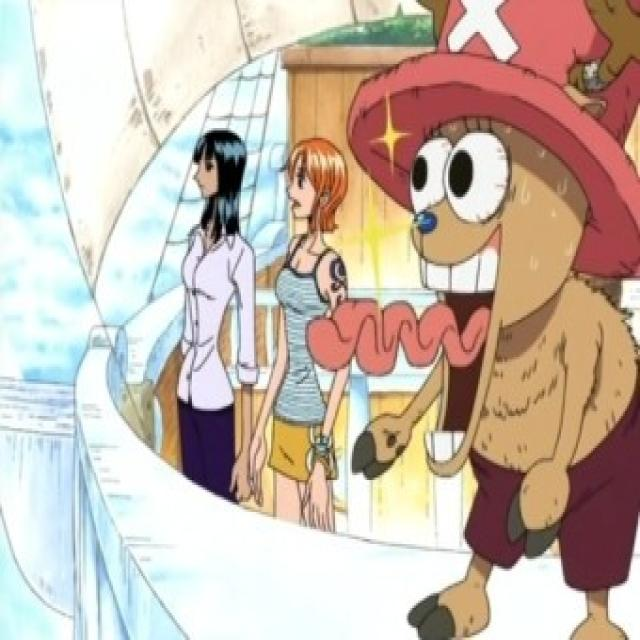Chyopa: (348, 0, 638, 640)
Nami: (278, 132, 346, 246)
NicoRobin: (179, 127, 255, 250)
